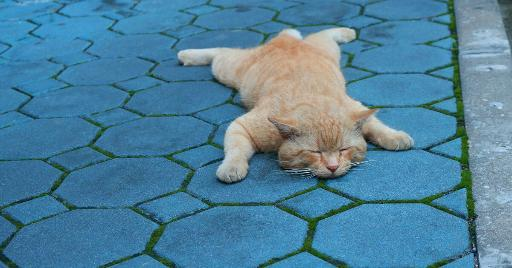cat_sleeping: (178, 28, 413, 183)
